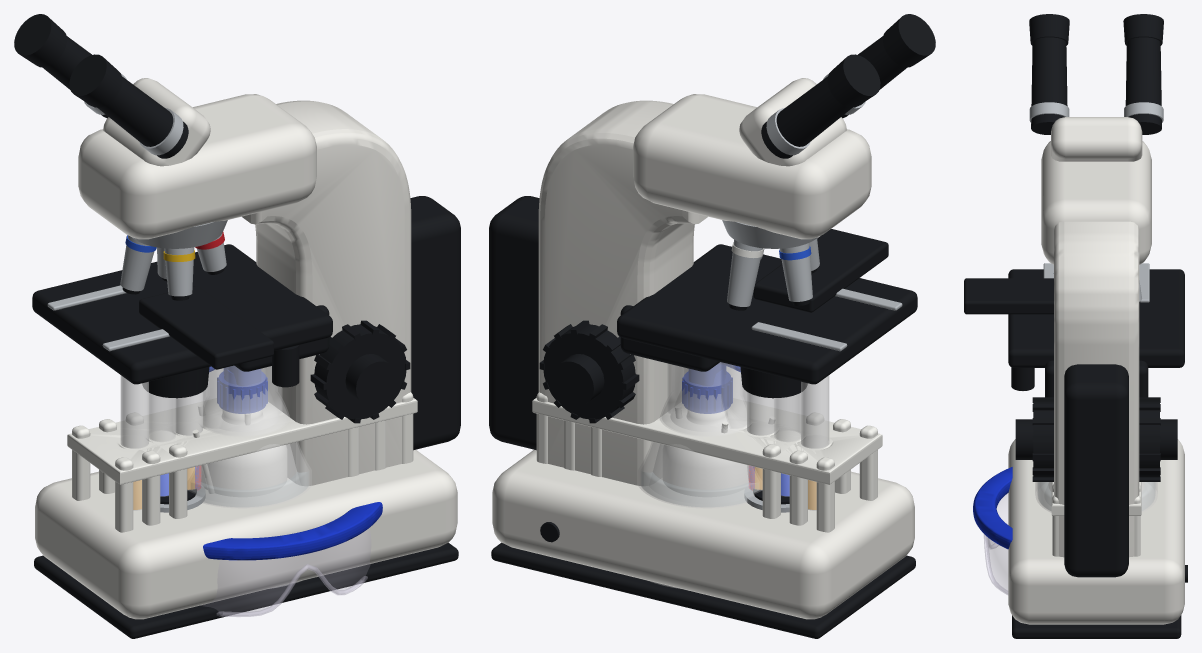
File: bench-equipment-v1.glb
3 renders of one model, left to right at view 1: azimuth 30°, elevation 25°; view 2: azimuth 150°, elevation 25°; view 3: azimuth 270°, elevation 25°, orthographic. The views are drawn at different scales.
Visible parts, largest first — view 1: White enamel, Black enamel, White plastic (×4), Laboratory glass (×4), Clear visor, Brushed steel, Blue plastic (×2), Clear solution; view 2: White enamel, Black enamel, White plastic (×4), Laboratory glass (×4), Brushed steel, Clear solution, Blue plastic; view 3: White enamel, Black enamel, Blue plastic, Brushed steel, Clear visor, White plastic, Laboratory glass, Clear solution.
Boxes of the visible parts, x1=… form: White enamel: x1=35, y1=78, x2=457, y2=619; Black enamel: x1=14, y1=14, x2=460, y2=638; White plastic (×4): x1=67, y1=392, x2=417, y2=532; Laboratory glass (×4): x1=121, y1=366, x2=311, y2=510; Clear visor: x1=201, y1=528, x2=370, y2=617; Brushed steel: x1=47, y1=74, x2=227, y2=512; Blue plastic (×2): x1=203, y1=369, x2=382, y2=560; Clear solution: x1=191, y1=472, x2=307, y2=506; White enamel: x1=492, y1=78, x2=914, y2=619; Black enamel: x1=489, y1=14, x2=935, y2=638; White plastic (×4): x1=532, y1=392, x2=882, y2=532; Laboratory glass (×4): x1=638, y1=362, x2=828, y2=510; Brushed steel: x1=722, y1=74, x2=902, y2=512; Clear solution: x1=642, y1=472, x2=758, y2=506; Blue plastic: x1=682, y1=369, x2=732, y2=413; White enamel: x1=1008, y1=117, x2=1184, y2=624; Black enamel: x1=964, y1=14, x2=1187, y2=638; Blue plastic: x1=973, y1=467, x2=1012, y2=549; Brushed steel: x1=1029, y1=102, x2=1163, y2=302; Clear visor: x1=983, y1=493, x2=1008, y2=594; White plastic: x1=1051, y1=482, x2=1141, y2=556; Laboratory glass: x1=1035, y1=482, x2=1157, y2=512; Clear solution: x1=1038, y1=482, x2=1154, y2=510.
Size of the model in its own units: 0.2683 by 0.3646 by 0.152.
